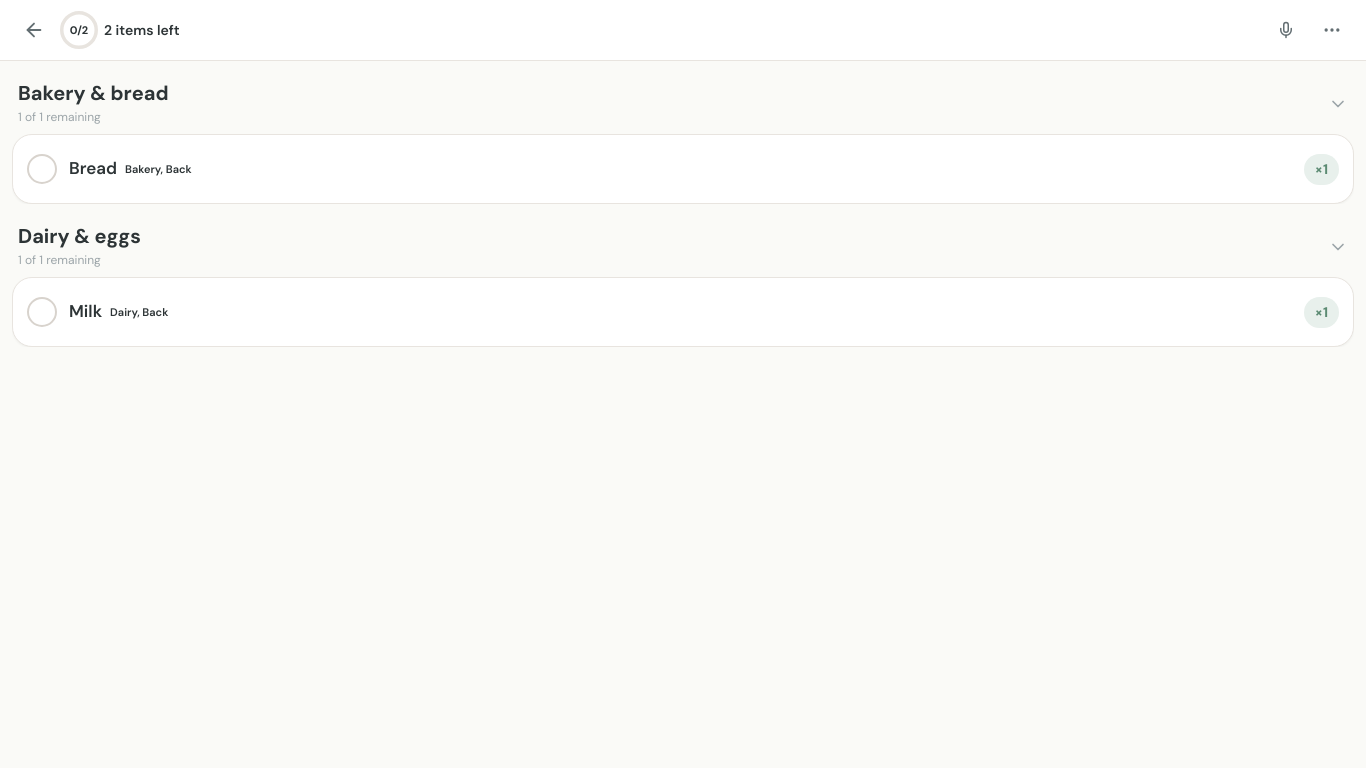
Test: tapping an item posts shopping_progress_check with a string item_id and drops the count
This screenshot has width=1366, height=768.
Expected: the text "2 items left" is shown, x1=104 y1=20 x2=180 y2=38
Click the checkbox labelled "Bread".
click(93, 168)  # box x1=13 y1=135 x2=1353 y2=203
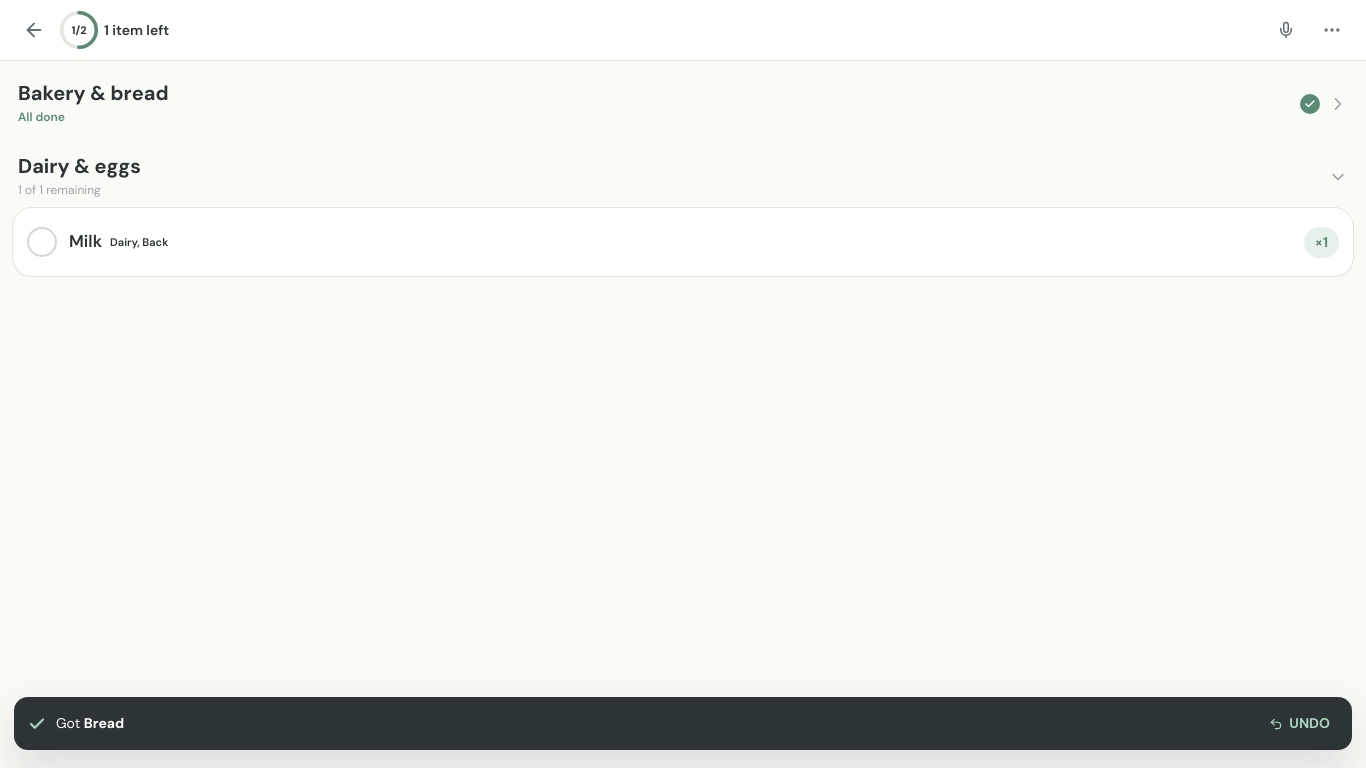
Expected: the text "1 item left" is shown, x1=104 y1=20 x2=169 y2=38
